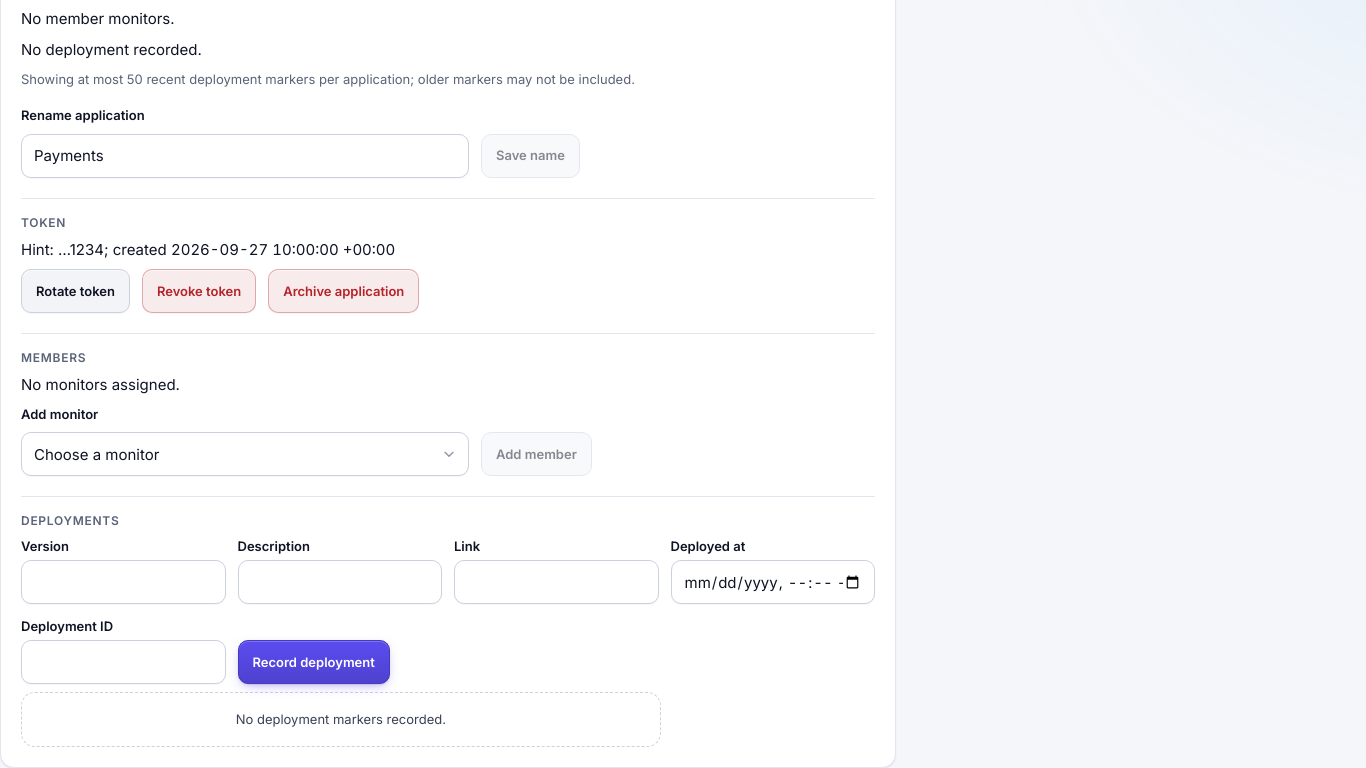
Test: retains the selected membership on an archived conflict and shows the error
(page scrolled)
Select "Checkout" in the dropdown labelled "Add monitor" at point(245, 454), box [21,432,469,476]
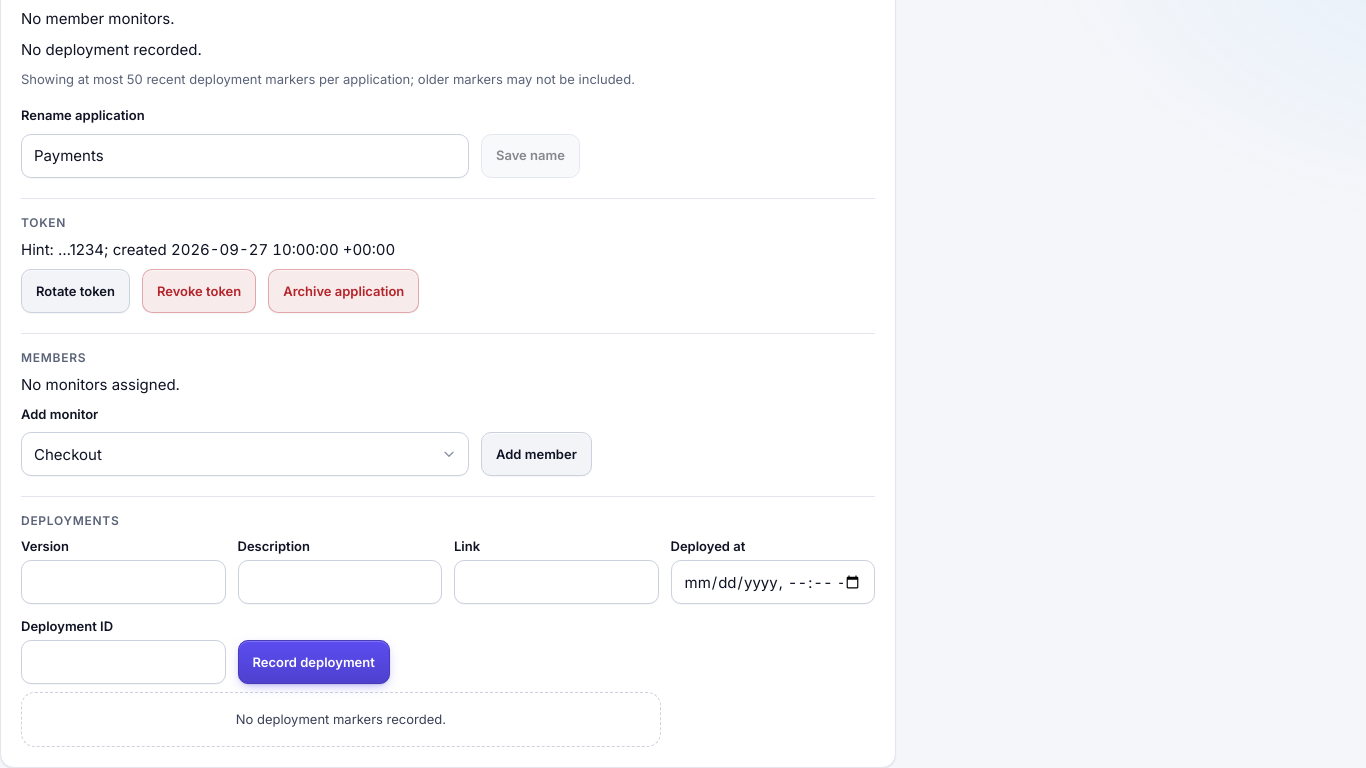
Click the button "Add member".
click(536, 454)  # box [481,432,592,476]
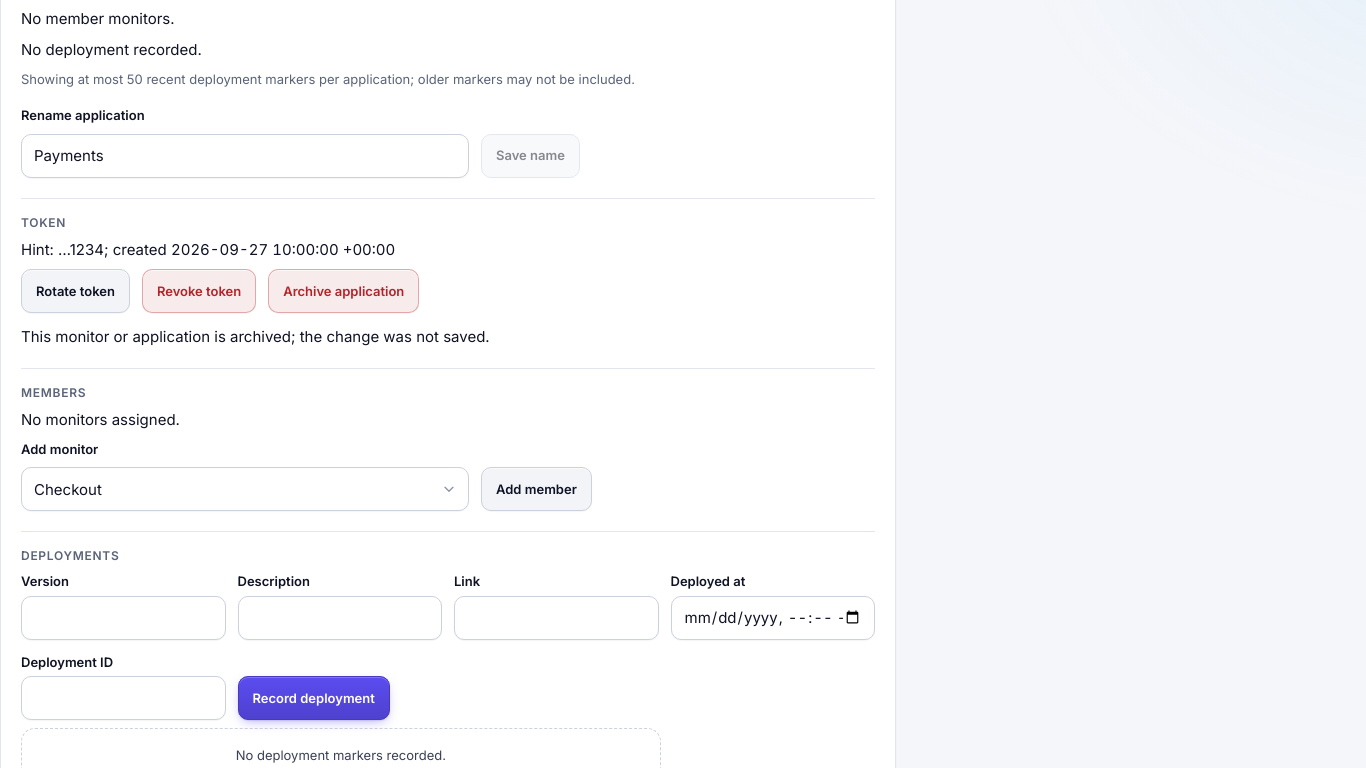
Now the text "This monitor or application is archived; the change was not saved." is shown, box [21,327,490,346]
